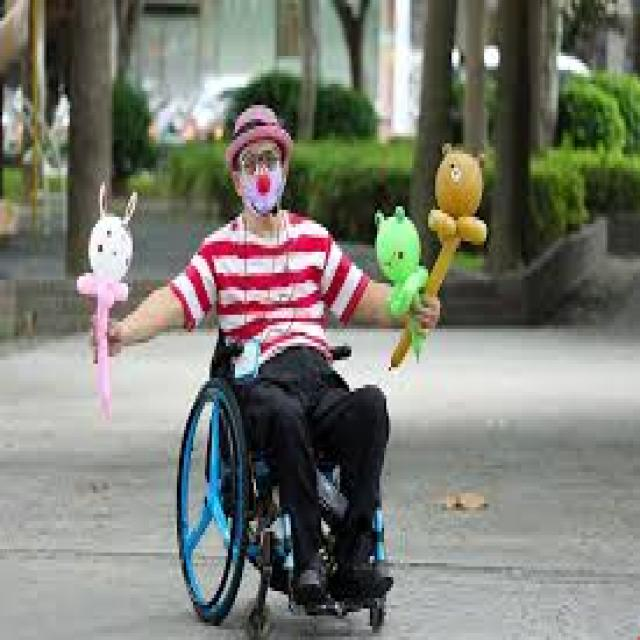wheelchairs: (166, 308, 400, 636)
